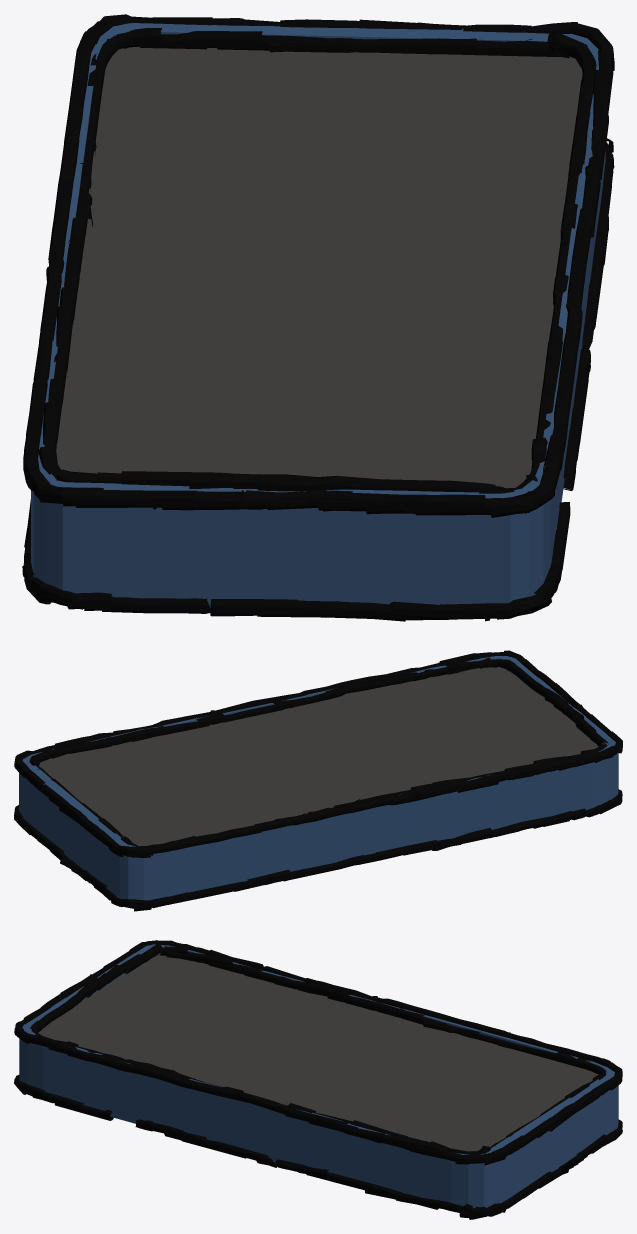
File: phone.glb
3 renders of one model, top to bottom at view 1: azimuth 30°, elevation 25°; view 2: azimuth 150°, elevation 25°; view 3: azimuth 270°, elevation 25°, orthographic. The views are drawn at different scales.
Visible parts, largest first — view 1: Phone_, lines_phone; view 2: Phone_, lines_phone; view 3: Phone_, lines_phone.
Boxes of the visible parts, x1,y1,x2,y2 form: Phone_: [31, 23, 605, 607]; lines_phone: [22, 14, 614, 621]; Phone_: [19, 656, 618, 900]; lines_phone: [14, 650, 622, 911]; Phone_: [19, 944, 618, 1211]; lines_phone: [14, 940, 622, 1219].
Bounding box in the file's own units: 0.2692 × 0.0409 × 0.3153.
